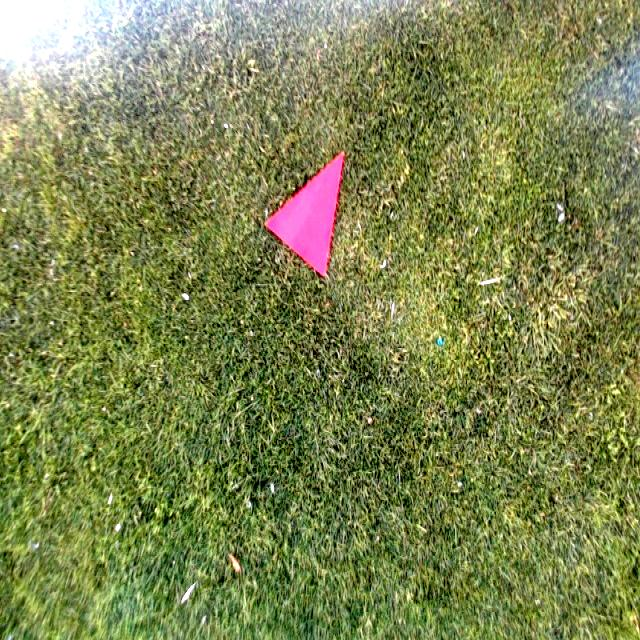red_triangle: (268, 150, 346, 277)
